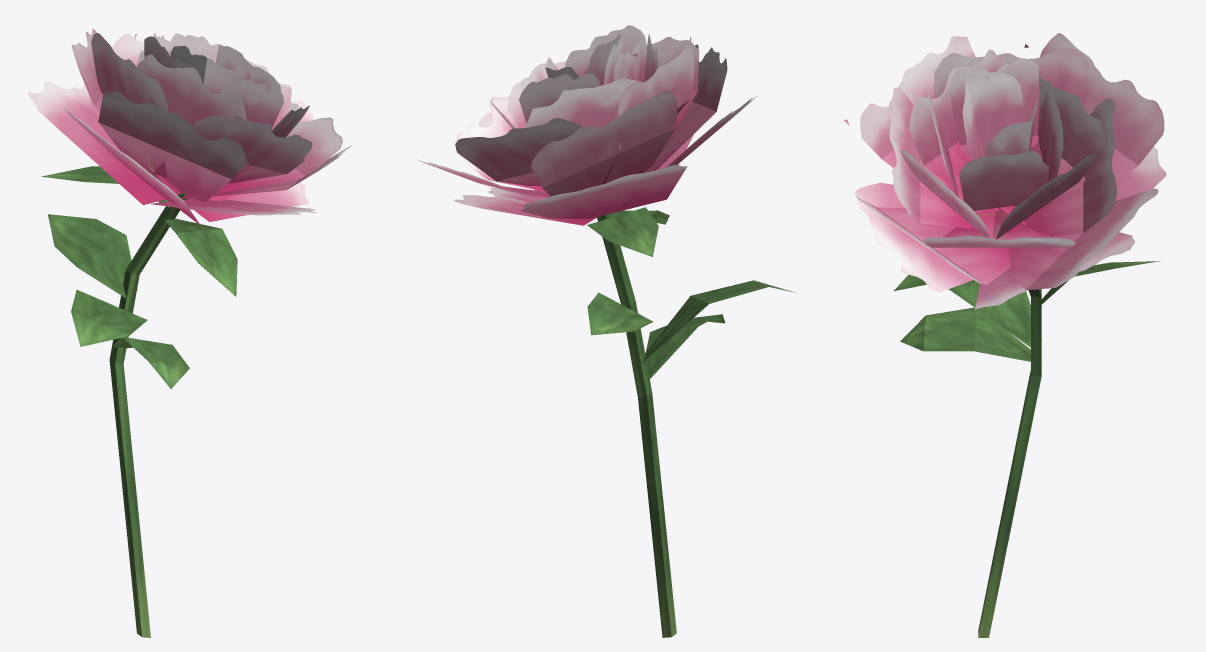
File: Pfingstrose.fbx
3 views of the same model, side by side, from view 1: azimuth 30°, elevation 25°; view 2: azimuth 150°, elevation 25°; view 3: azimuth 270°, elevation 25° (orthographic). The views are drawn at different scales.
Visible parts, largest first — view 1: Pringstrose; view 2: Pringstrose; view 3: Pringstrose.
Boxes of the visible parts, x1=… form: Pringstrose: x1=28, y1=29, x2=351, y2=637; Pringstrose: x1=415, y1=18, x2=797, y2=637; Pringstrose: x1=844, y1=33, x2=1166, y2=637.
Size of the model in its own units: 16.09 by 28.25 by 15.42.
